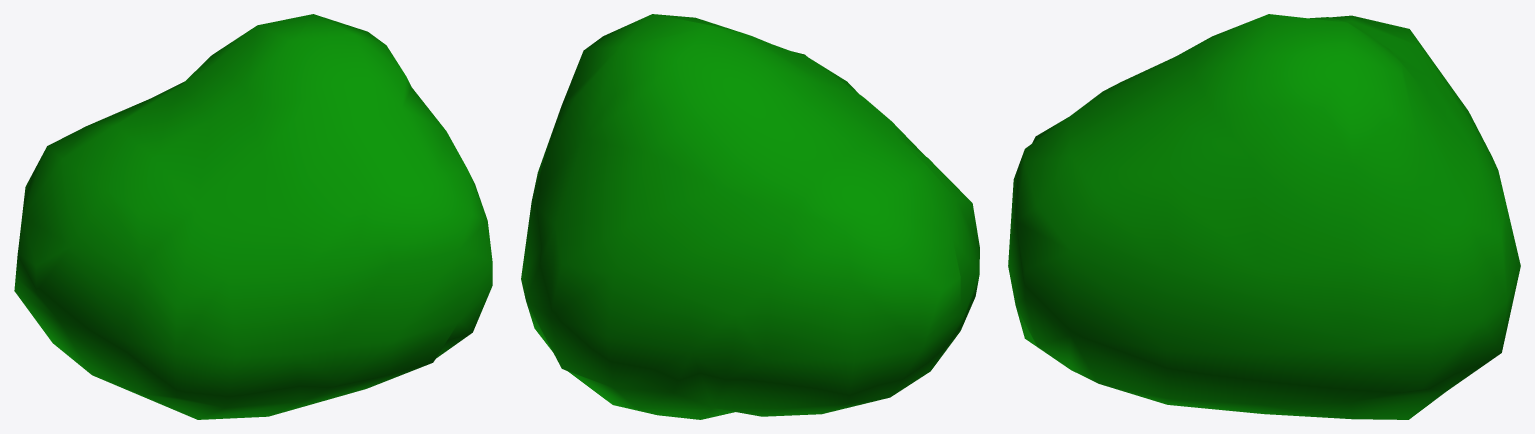
Rendered from sm_bush1_FH.fbx.
3 renders of one model, left to right at view 1: azimuth 30°, elevation 25°; view 2: azimuth 150°, elevation 25°; view 3: azimuth 270°, elevation 25°, orthographic. The views are drawn at different scales.
Visible parts, largest first — view 1: Mball.008; view 2: Mball.008; view 3: Mball.008.
Part boxes in pixels (box(x1,y1,x2,y2)): Mball.008: box(14, 14, 492, 419); Mball.008: box(521, 14, 979, 419); Mball.008: box(1008, 14, 1520, 419).
Bounding box in the file's own units: 472 × 377 × 453.
